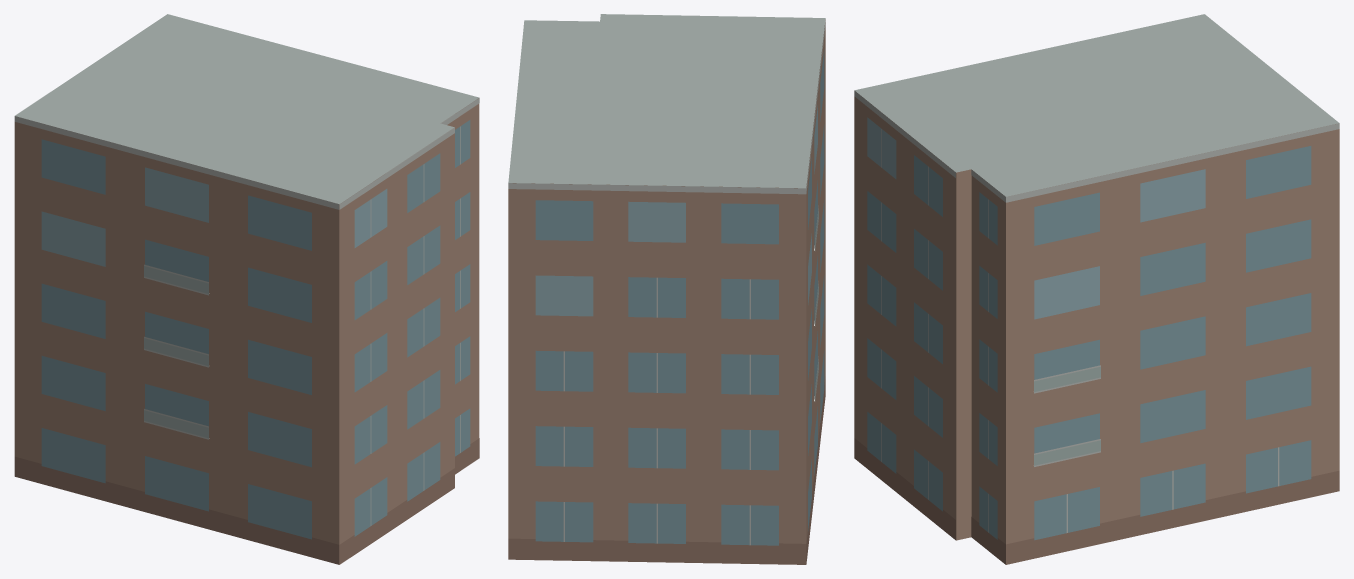
File: survey-upis-33044593.glb
3 renders of one model, left to right at view 1: azimuth 30°, elevation 25°; view 2: azimuth 150°, elevation 25°; view 3: azimuth 270°, elevation 25°, orthographic. The views are drawn at different scales.
Parts seen in each view (by area): view 1: survey-upis-33044593.tmp; view 2: survey-upis-33044593.tmp; view 3: survey-upis-33044593.tmp.
Part boxes in pixels (x1,y1,x2,y2): survey-upis-33044593.tmp: (14,14,479,564); survey-upis-33044593.tmp: (508,14,825,564); survey-upis-33044593.tmp: (854,14,1339,564).
Size of the model in its own units: 16.27 by 15.25 by 18.24.
